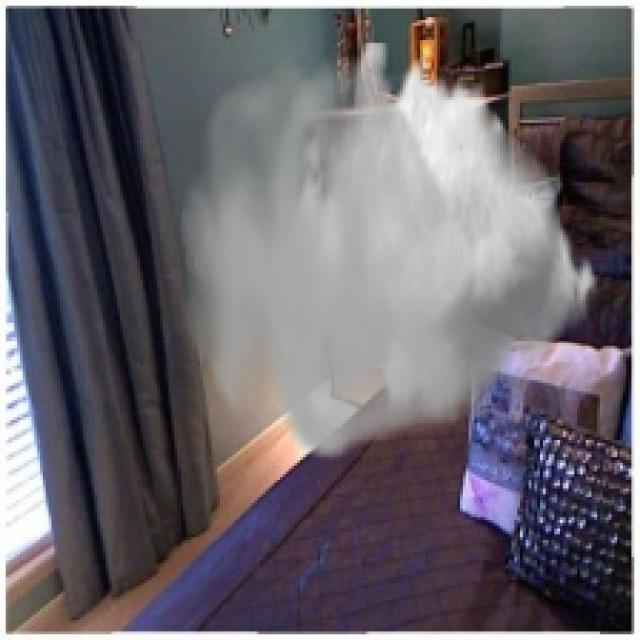smoke: (180, 43, 600, 466)
